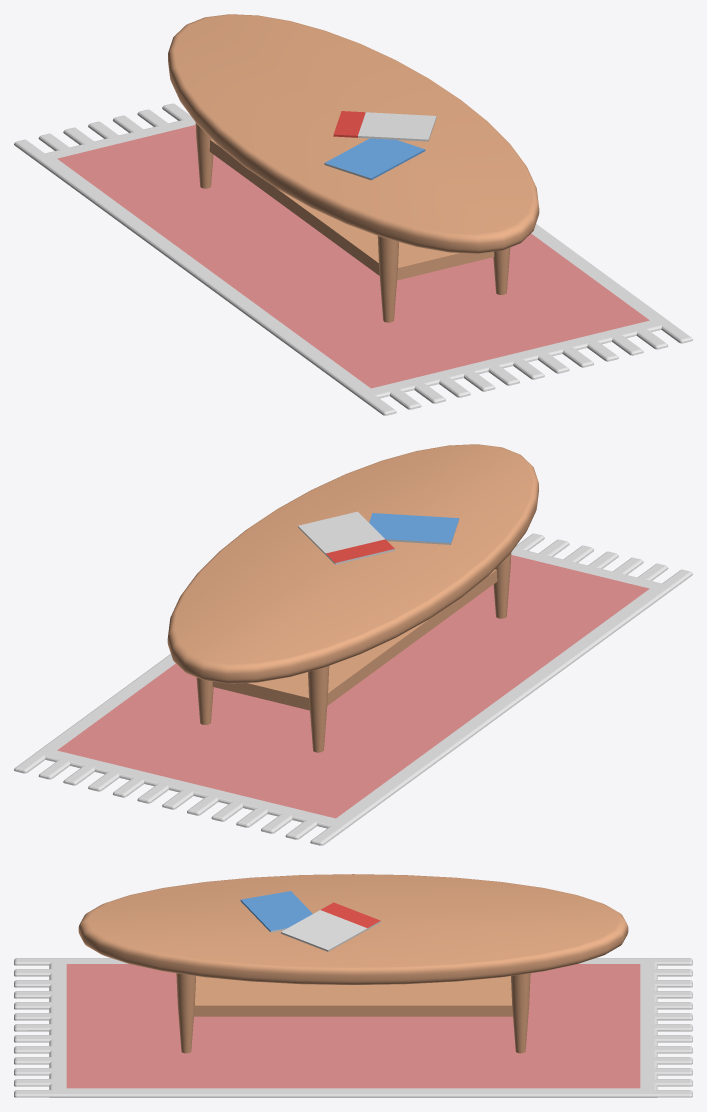
File: 01_Table.fbx
3 renders of one model, top to bottom at view 1: azimuth 30°, elevation 25°; view 2: azimuth 150°, elevation 25°; view 3: azimuth 270°, elevation 25°, orthographic. The views are drawn at different scales.
Visible parts, largest first — view 1: Plane.007, Circle.033, Plane.008, Cube.069, Cylinder.015, Plane.009, Plane.010; view 2: Plane.007, Circle.033, Plane.008, Cube.069, Plane.009, Cylinder.015, Plane.010; view 3: Plane.007, Circle.033, Cube.069, Plane.008, Plane.009, Cylinder.015, Plane.010.
Boxes of the visible parts, x1,y1,x2,y2 form: Plane.007: (32,118,672,401); Circle.033: (168,14,539,253); Plane.008: (14,103,692,415); Cube.069: (209,139,494,280); Cylinder.015: (195,122,510,322); Plane.009: (333,111,436,141); Plane.010: (324,138,425,180); Plane.007: (34,548,674,831); Circle.033: (167,444,538,683); Plane.008: (14,533,692,845); Cube.069: (212,569,497,710); Plane.009: (298,511,394,564); Cylinder.015: (196,552,511,752); Plane.010: (369,513,459,544); Plane.007: (49,958,657,1097); Circle.033: (78,874,628,984); Cube.069: (194,976,512,1016); Plane.008: (14,958,692,1097); Plane.009: (281,902,380,951); Cylinder.015: (176,973,530,1053); Plane.010: (240,891,312,932).
Size of the model in its own units: 5.94 by 2.26 by 12.34.
